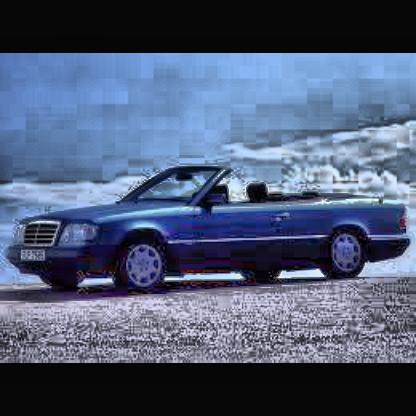Mercedes-Benz 300-Class Convertible 1993: (7, 160, 415, 296)
